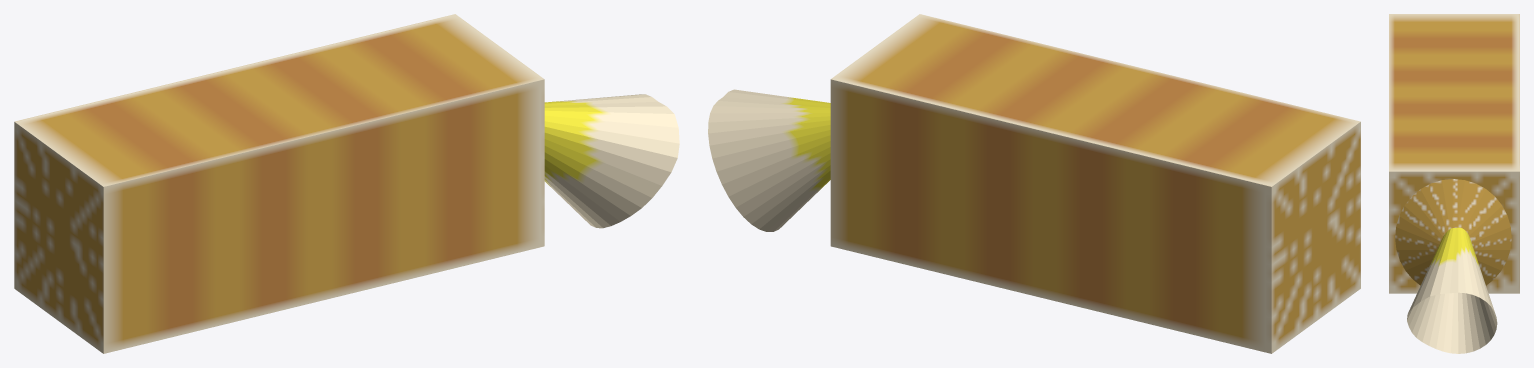
Rendered from Bread.fbx.
3 renders of one model, left to right at view 1: azimuth 30°, elevation 25°; view 2: azimuth 150°, elevation 25°; view 3: azimuth 270°, elevation 25°, orthographic. The views are drawn at different scales.
Visible parts, largest first — view 1: Cube.010, Cone; view 2: Cube.010, Cone; view 3: Cube.010, Cone.001, Cone.
Part boxes in pixels (box(x1,y1,x2,y2)): Cube.010: box(14, 14, 544, 353); Cone: box(544, 94, 679, 228); Cube.010: box(830, 14, 1360, 353); Cone: box(708, 89, 830, 231); Cube.010: box(1389, 14, 1519, 293); Cone.001: box(1395, 179, 1511, 285); Cone: box(1407, 227, 1497, 353).
Bounding box in the file's own units: 272 × 88.23 × 70.1.
3 materials, 3 textured.
